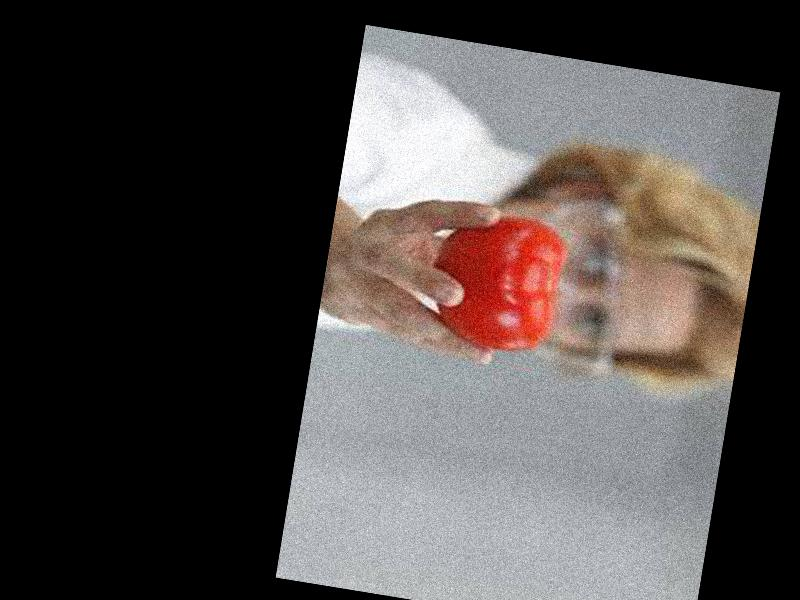Tomato: (426, 202, 568, 356)
